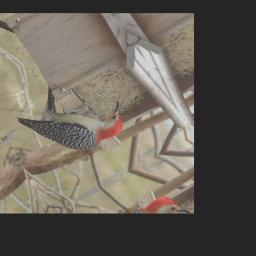Woodpecker: (14, 65, 137, 174)
